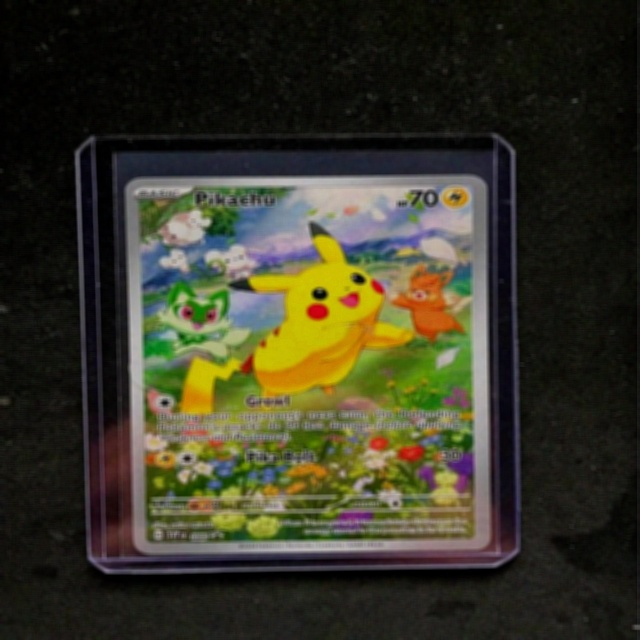card: (124, 176, 493, 555)
